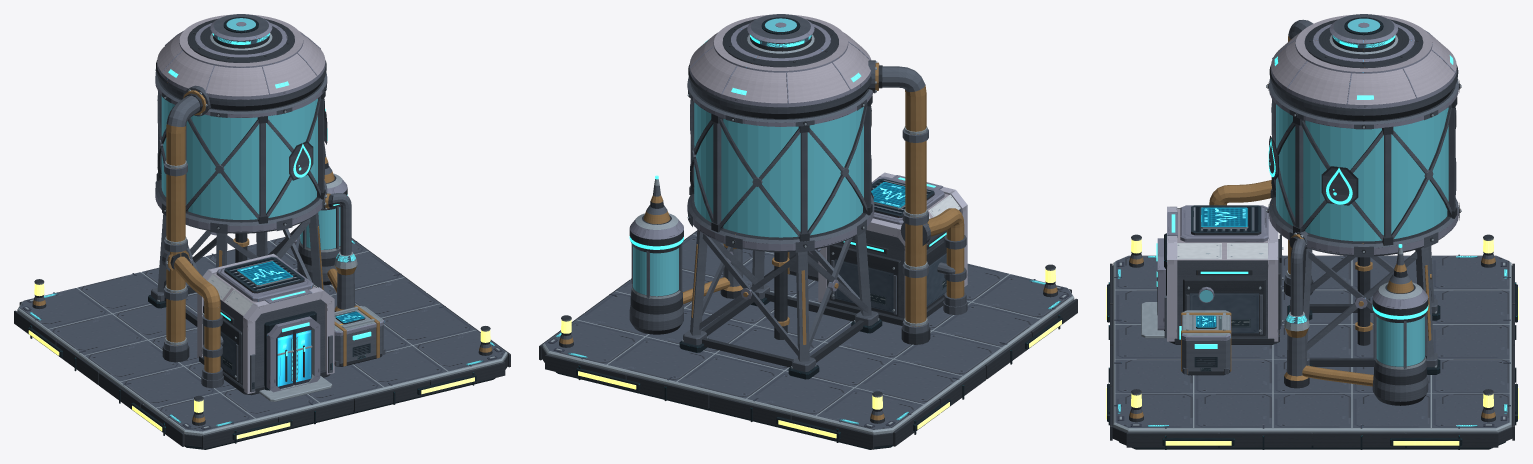
Rendered from TA03_TorreDeAguaAvanzada.fbx.
3 views of the same model, side by side, from view 1: azimuth 30°, elevation 25°; view 2: azimuth 150°, elevation 25°; view 3: azimuth 270°, elevation 25° (orthographic). The views are drawn at different scales.
Parts seen in each view (by area): view 1: Estructura_3, CristalYAgua_3; view 2: Estructura_3, CristalYAgua_3; view 3: Estructura_3, CristalYAgua_3.
Boxes of the visible parts, box(x1,y1,x2,y2) form: Estructura_3: box(14, 14, 510, 449); CristalYAgua_3: box(161, 18, 340, 249); Estructura_3: box(539, 14, 1077, 449); CristalYAgua_3: box(633, 18, 863, 296); Estructura_3: box(1106, 14, 1518, 449); CristalYAgua_3: box(1199, 18, 1448, 366).
Bounding box in the file's own units: 6.3 × 5.57 × 6.1.
